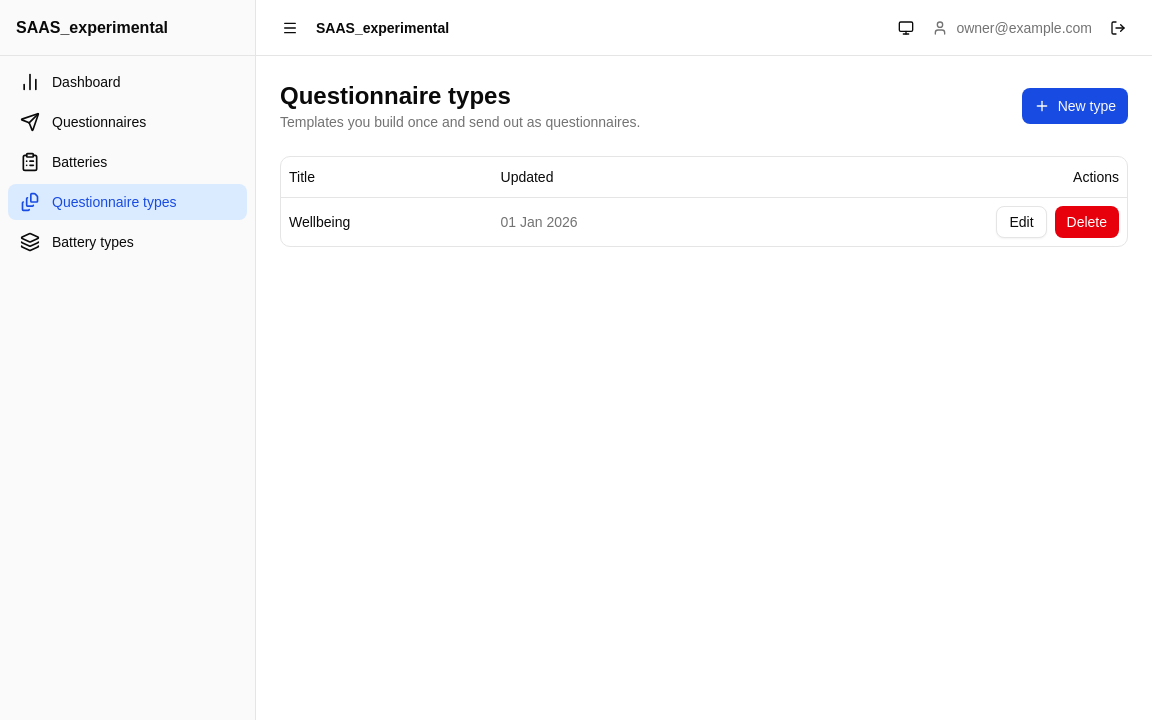
Test: /questionnaire-types › shows the API message when delete is blocked
Click the button "Delete": [1087, 222] box x1=1054 y1=206 x2=1119 y2=238
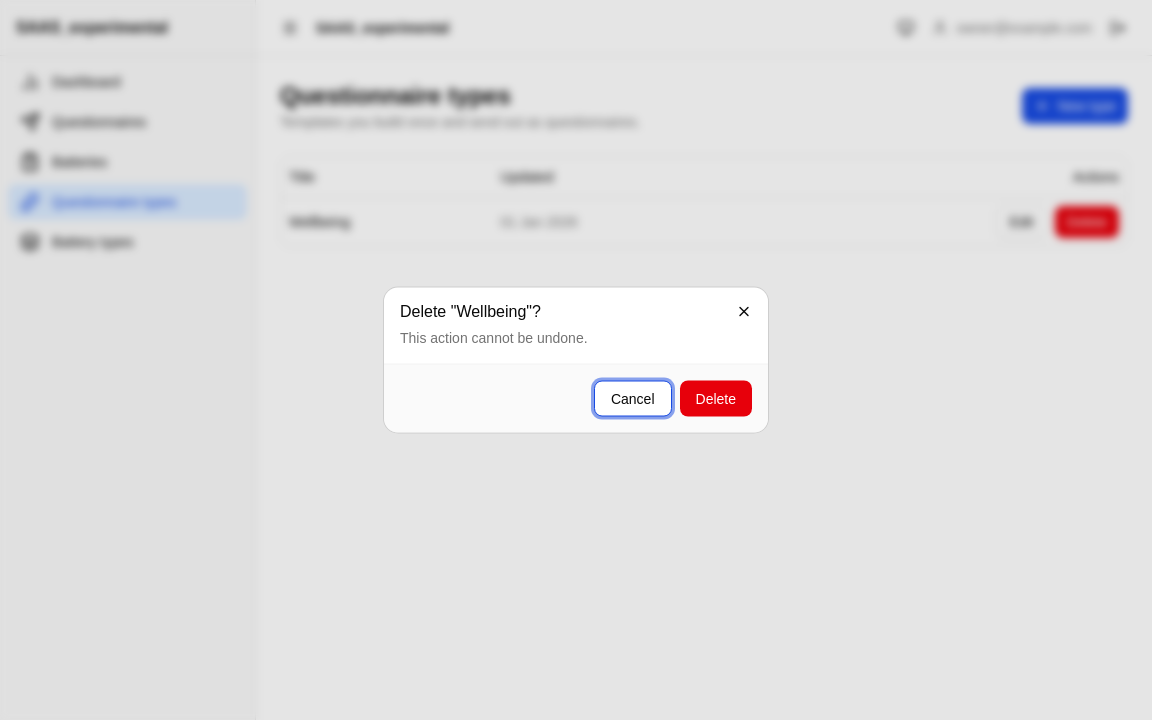
Click the button "Delete": [716, 398] box x1=680 y1=380 x2=752 y2=416
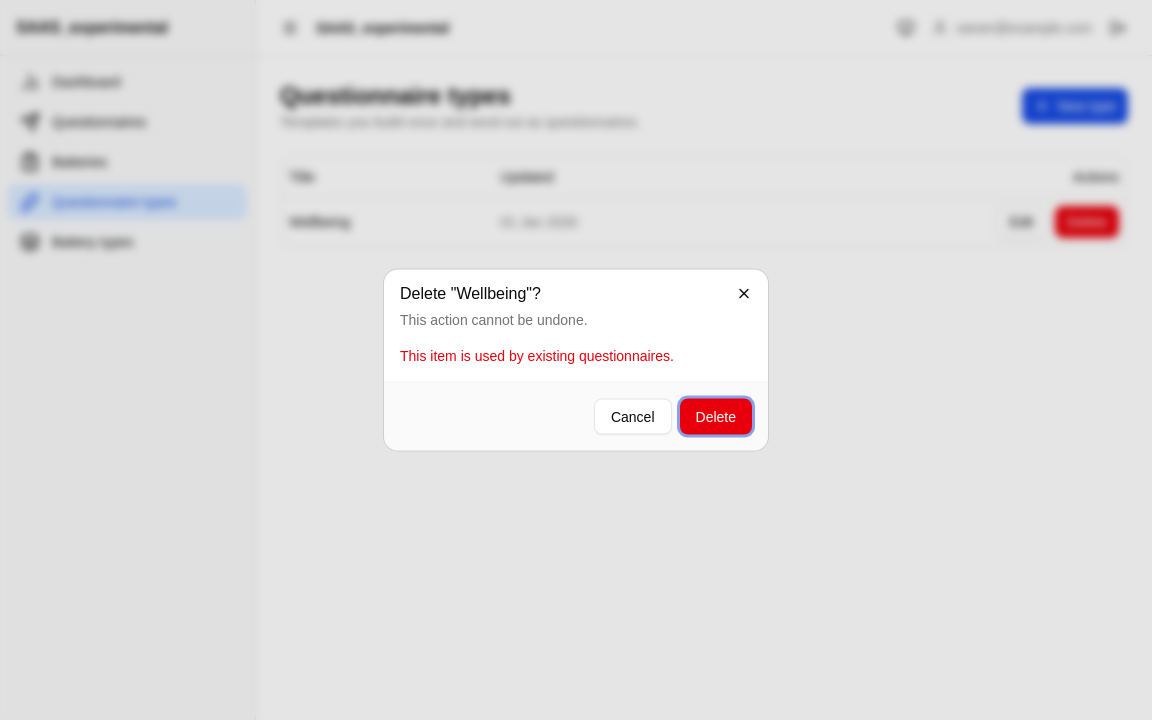
Now the message shows "used by existing", box x1=400 y1=348 x2=674 y2=364
